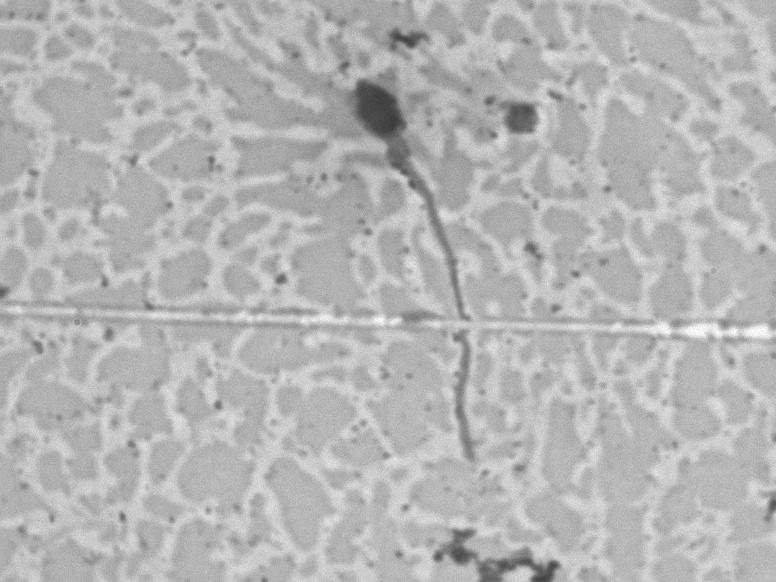Abnormal: (339, 53, 491, 479)
